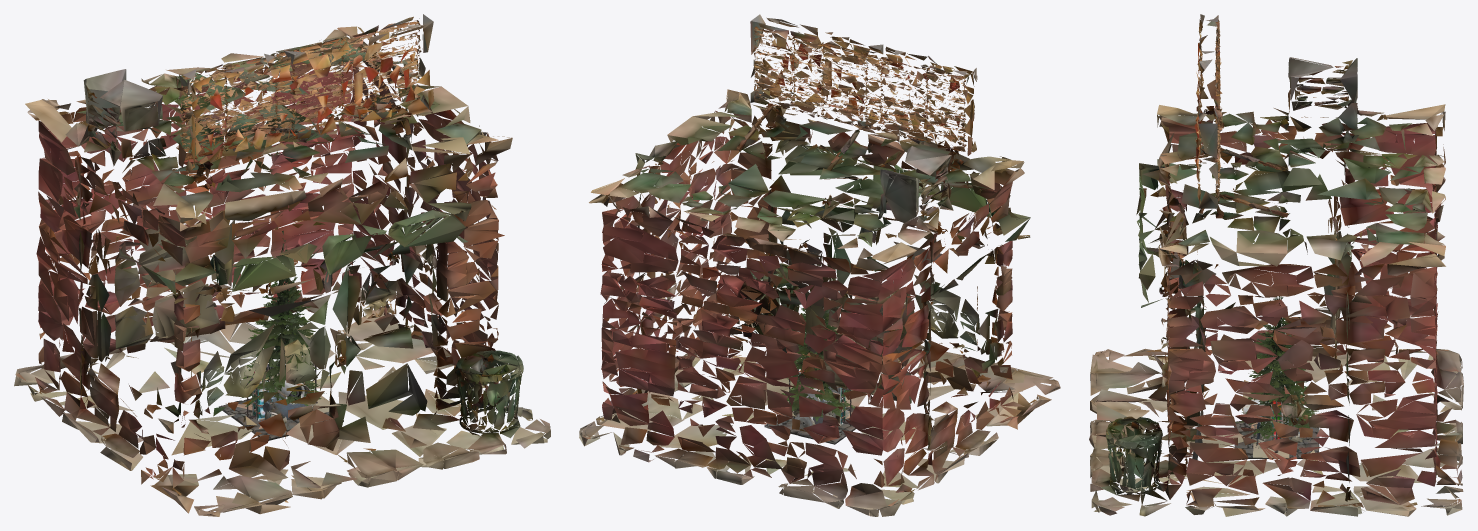
Rendered from map2.glb.
3 views of the same model, side by side, from view 1: azimuth 30°, elevation 25°; view 2: azimuth 150°, elevation 25°; view 3: azimuth 270°, elevation 25° (orthographic). The views are drawn at different scales.
Parts seen in each view (by area): view 1: liquorstore, deadtree, cobblepatch; view 2: liquorstore, deadtree, cobblepatch; view 3: liquorstore, deadtree, cobblepatch.
Boxes of the visible parts, bbox=[...] form: liquorstore: bbox=[14, 14, 550, 516]; deadtree: bbox=[240, 230, 326, 406]; cobblepatch: bbox=[219, 398, 343, 440]; liquorstore: bbox=[579, 14, 1060, 516]; deadtree: bbox=[781, 257, 855, 421]; cobblepatch: bbox=[764, 406, 855, 444]; liquorstore: bbox=[1089, 14, 1463, 516]; deadtree: bbox=[1235, 296, 1318, 439]; cobblepatch: bbox=[1234, 421, 1319, 458].
Size of the model in its own units: 13.29 by 14 by 12.95.
Materials: 18 (18 with a texture image).
